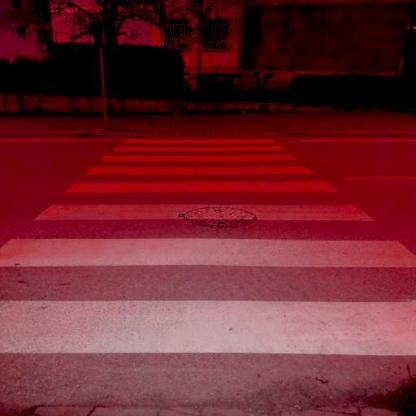crosswalk: (1, 232, 415, 362), (56, 164, 344, 198)
